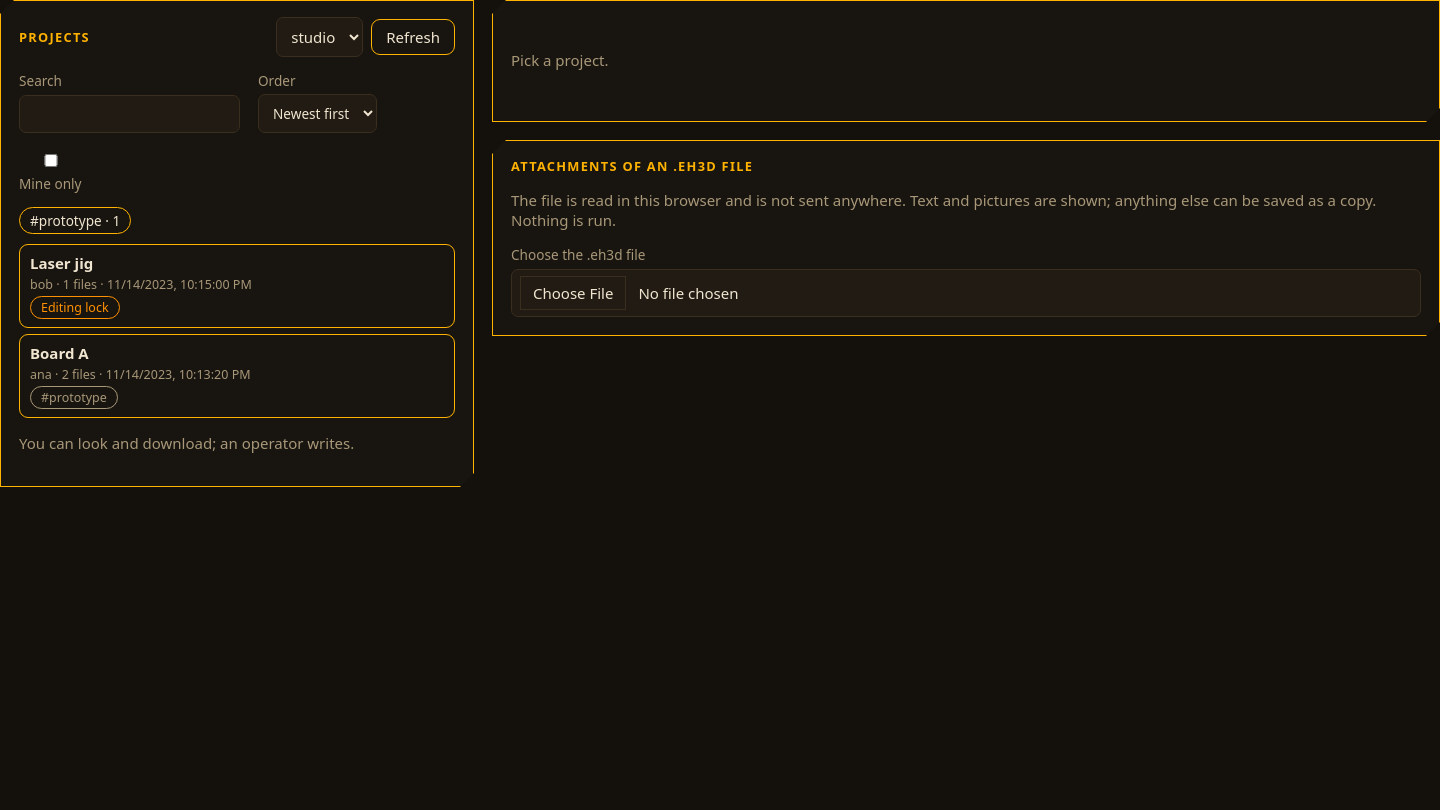
Test case: the explorer of the projects › shows a viewer the projects, the tags and the files, and none of the buttons that write
The width and height of the screenshot is (1440, 810).
Click the button "Board A ana · 2 files · 11/14/2023, 10:13:20 PM #prototype" at (237, 376), box top-left (19, 334), bottom-right (455, 418)
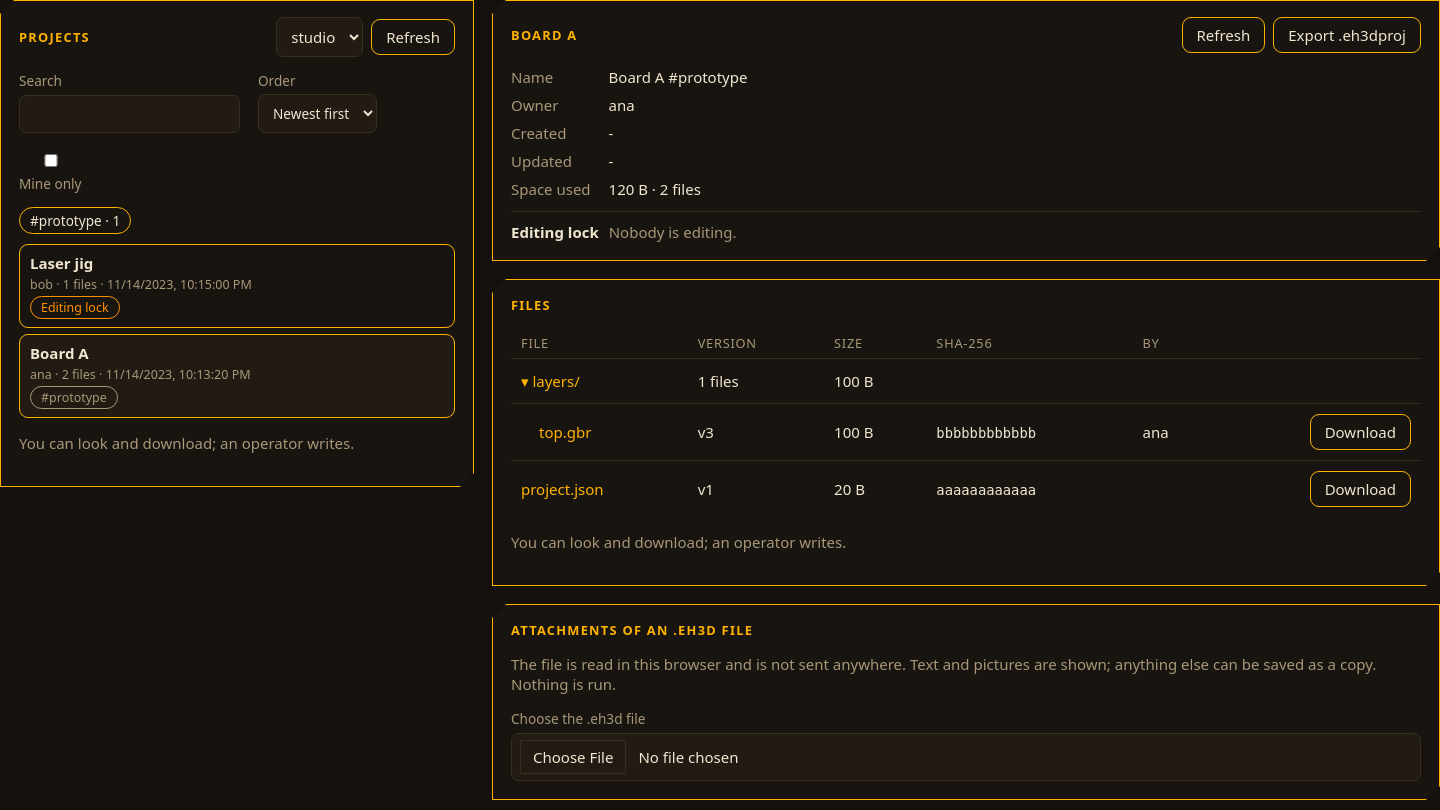
Now the button "Download" in the row of "v3" is shown, box top-left (1310, 414), bottom-right (1411, 450)
